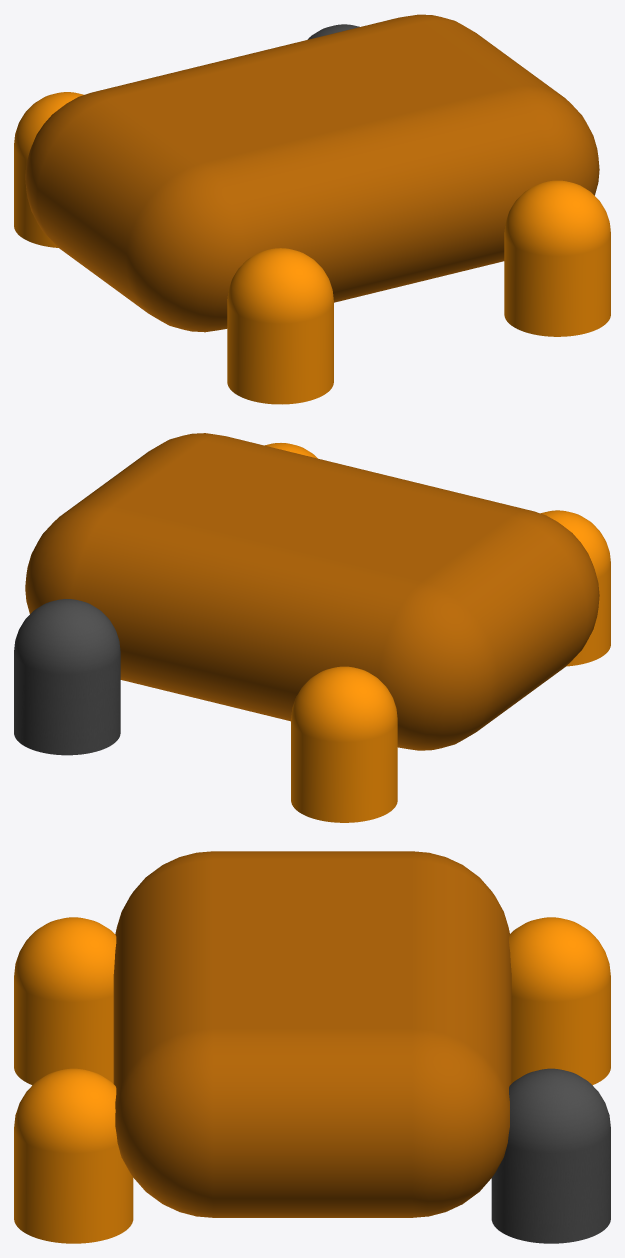
The model's file is Ship.glb.
The picture shows the model from 3 angles, top to bottom: view 1: azimuth 30°, elevation 25°; view 2: azimuth 150°, elevation 25°; view 3: azimuth 270°, elevation 25°; orthographic projection. The views are drawn at different scales.
Visible parts, largest first — view 1: Ship, Thruster 3, Thruster 1, Thruster 2; view 2: Ship, Thruster, Thruster 2, Thruster 3; view 3: Ship, Thruster 1, Thruster, Thruster 3, Thruster 2.
Part boxes in pixels (bbox=[...]): Ship: bbox=[25, 14, 599, 332]; Thruster 3: bbox=[227, 248, 333, 404]; Thruster 1: bbox=[504, 180, 610, 336]; Thruster 2: bbox=[14, 92, 83, 247]; Ship: bbox=[25, 433, 599, 750]; Thruster: bbox=[14, 599, 120, 755]; Thruster 2: bbox=[291, 666, 397, 822]; Thruster 3: bbox=[540, 510, 610, 666]; Ship: bbox=[113, 851, 511, 1217]; Thruster 1: bbox=[14, 1068, 133, 1243]; Thruster: bbox=[491, 1068, 610, 1243]; Thruster 3: bbox=[14, 917, 116, 1085]; Thruster 2: bbox=[509, 917, 610, 1085].
Bounding box in the file's own units: 0.3 × 0.11 × 0.3.
3 materials, 1 textured.
